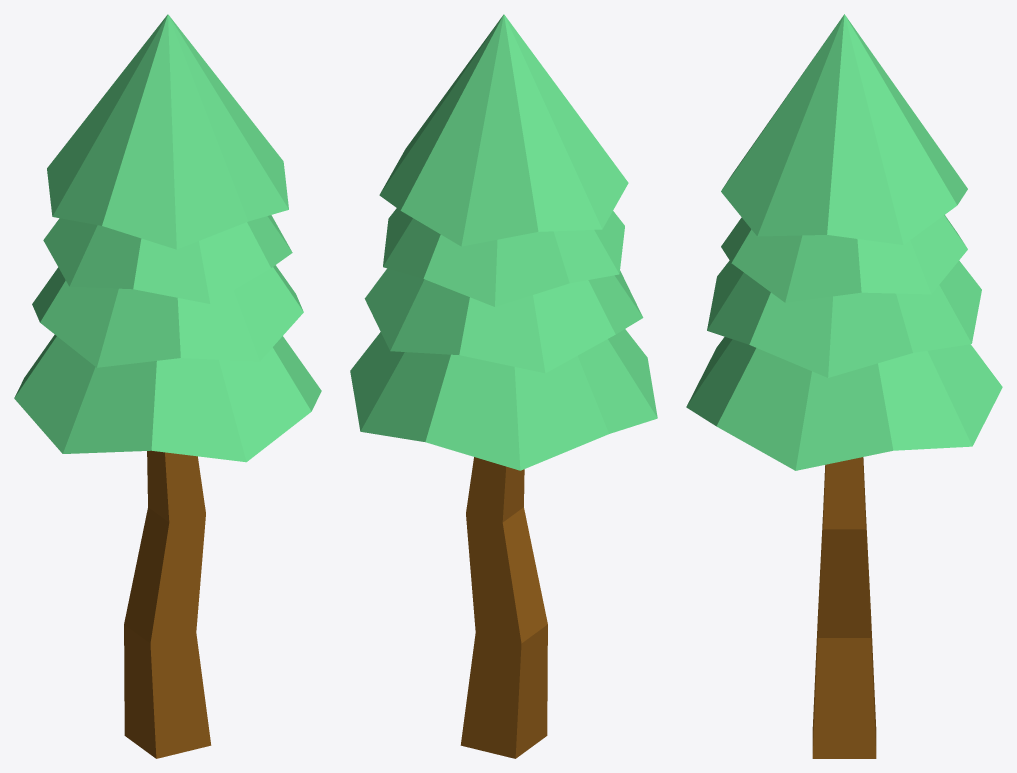
File: lowpoly tree.glb
3 views of the same model, side by side, from view 1: azimuth 30°, elevation 25°; view 2: azimuth 150°, elevation 25°; view 3: azimuth 270°, elevation 25° (orthographic).
Visible parts, largest first — view 1: Cylinder.003, Cube; view 2: Cylinder.003, Cube; view 3: Cylinder.003, Cube.
Part boxes in pixels (x1,y1,x2,y2): Cylinder.003: [14, 14, 321, 462]; Cube: [124, 450, 211, 758]; Cylinder.003: [350, 14, 657, 470]; Cube: [460, 457, 547, 758]; Cylinder.003: [686, 14, 1002, 470]; Cube: [812, 457, 876, 758].
Size of the model in its own units: 1.69 by 4.54 by 1.78.
